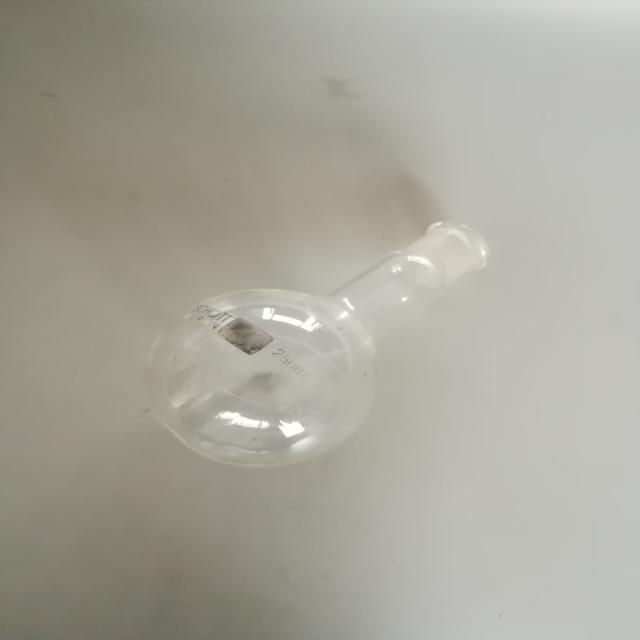Round_Bottom_Flask_Borosilicate_Glass_1_Neck: (104, 156, 543, 499)
